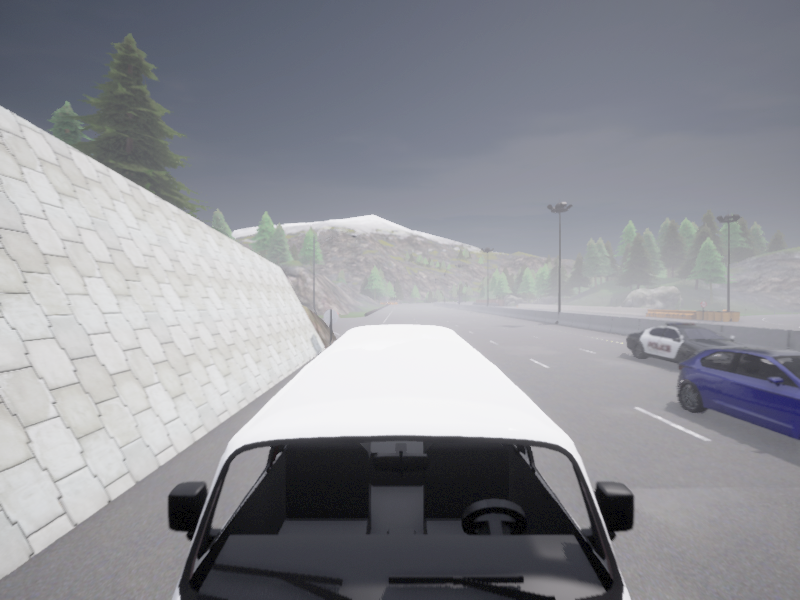vehicle: (168, 324, 633, 599), (677, 347, 799, 439), (626, 323, 750, 363), (458, 301, 461, 303)
